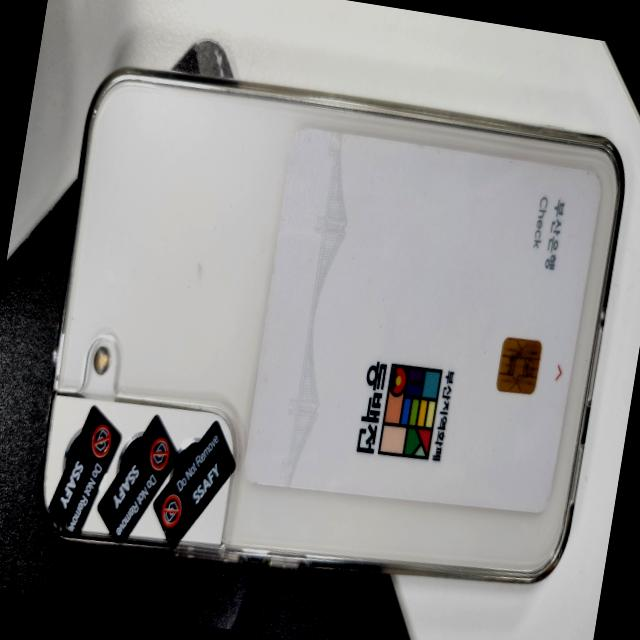phone: (19, 55, 636, 628)
sticker: (152, 423, 239, 547), (97, 415, 178, 548), (42, 408, 121, 542)
